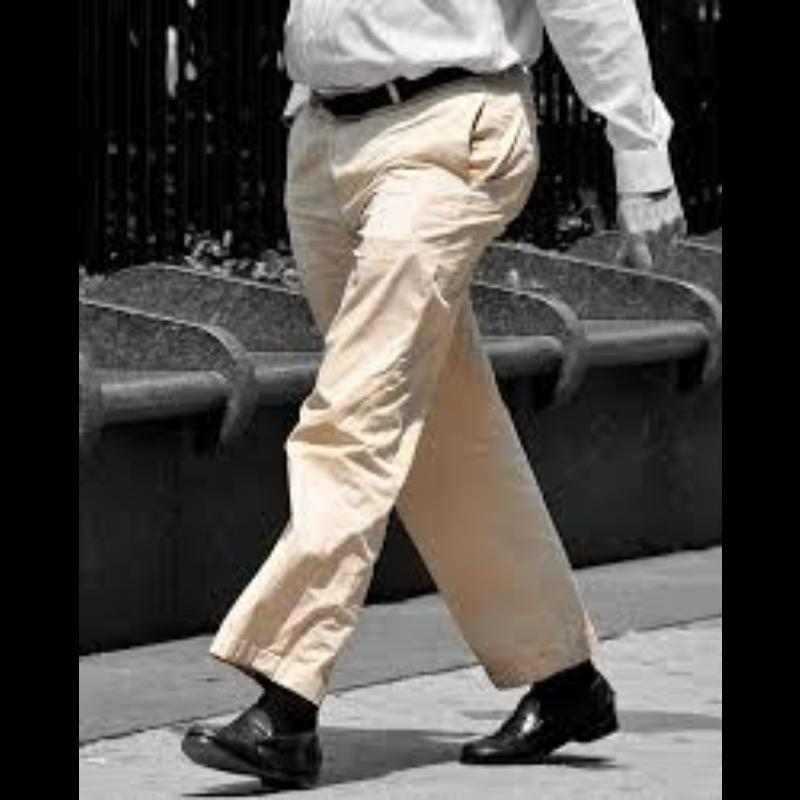Pant: (221, 98, 611, 746)
